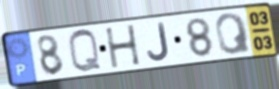8: (36, 33, 67, 77), (182, 17, 215, 58)
H: (103, 23, 143, 70)
J: (145, 21, 172, 63)
Q: (213, 11, 253, 56), (67, 27, 104, 75)
